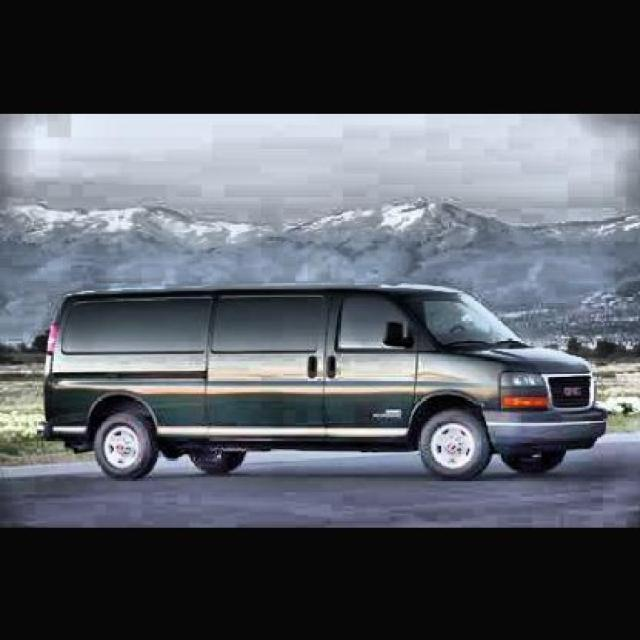black: (47, 282, 640, 471)
